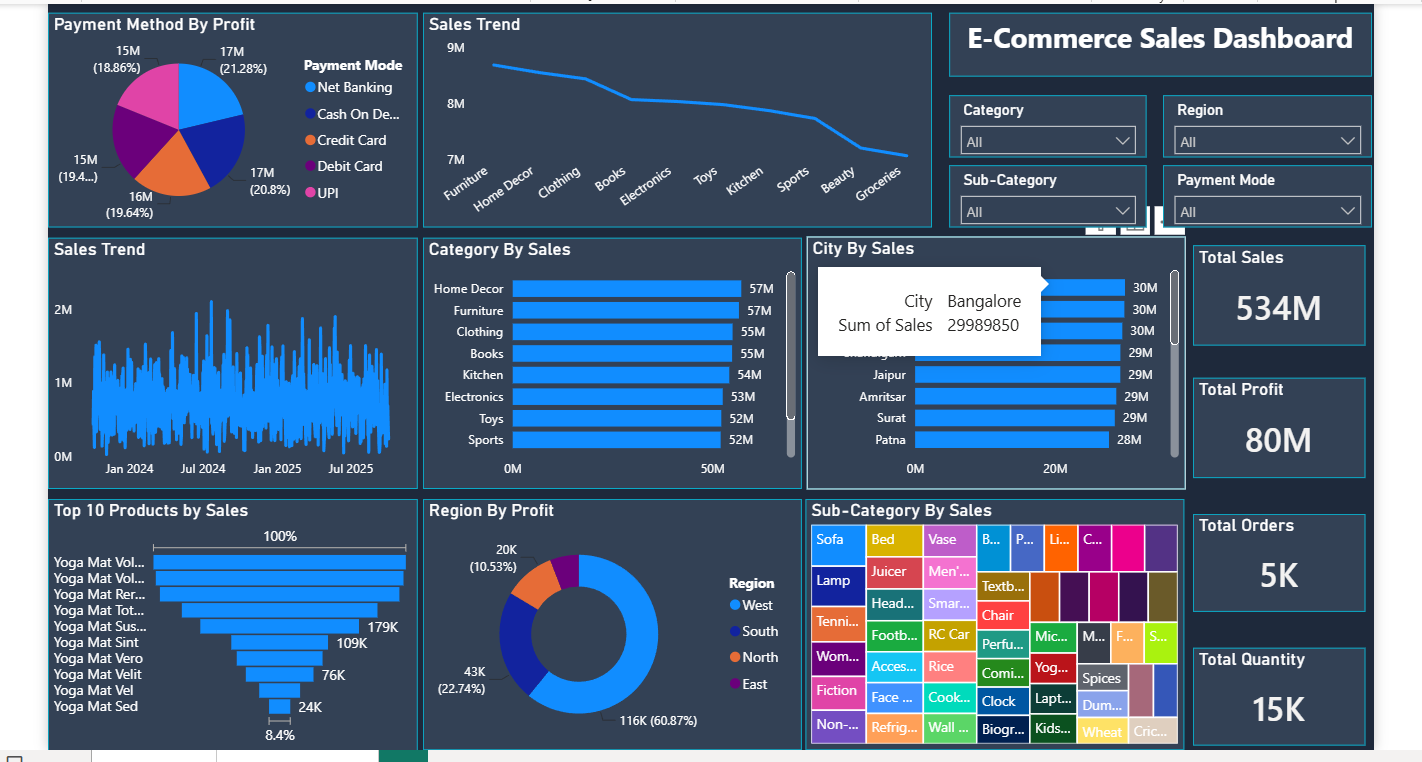

The dashboard page shown, as its layout file describes it:
{"tool":"powerbi","page":{"name":"Dashboard","canvas":[1280,720],"ordinal":0},"visuals":[{"type":"cardVisual","title":"Total Sales","fields":{"Data":["Ecommerce_Sales_Data_2024_20251(E-commerce_Sales).Total Sales"]},"box":[1105.1,232.8,166.5,96.5],"z":0},{"type":"cardVisual","title":"Total Profit","fields":{"Data":["Ecommerce_Sales_Data_2024_20251(E-commerce_Sales).Total Profit"]},"box":[1105.1,360.7,166.5,96.5],"z":1000},{"type":"cardVisual","title":"Total Orders","fields":{"Data":["Ecommerce_Sales_Data_2024_20251(E-commerce_Sales).Total Orders","Ecommerce_Sales_Data_2024_20251(E-commerce_Sales).Total Orders"]},"box":[1105.1,492.2,166.5,94.1],"z":2000},{"type":"cardVisual","title":"Total Quantity","fields":{"Data":["Ecommerce_Sales_Data_2024_20251(E-commerce_Sales).Total Quantity"]},"box":[1105.1,621.3,166.5,94.1],"z":3000},{"type":"lineChart","title":"Sales Trend","fields":{"Y":["Sum(Ecommerce_Sales_Data_2024_20251(E-commerce_Sales).Sales)"],"Category":["Ecommerce_Sales_Data_2024_20251(E-commerce_Sales).Order Date"]},"box":[0,225.6,357.1,242.5],"z":4000},{"type":"clusteredBarChart","title":"Category By Sales","fields":{"Category":["Ecommerce_Sales_Data_2024_20251(E-commerce_Sales).Category"],"Y":["Sum(Ecommerce_Sales_Data_2024_20251(E-commerce_Sales).Sales)"]},"box":[361.9,225.6,365.6,242.5],"z":5000},{"type":"clusteredBarChart","title":"City By Sales","fields":{"Category":["Ecommerce_Sales_Data_2024_20251(E-commerce_Sales).City"],"Y":["Sum(Ecommerce_Sales_Data_2024_20251(E-commerce_Sales).Sales)"]},"box":[732.3,224.4,365.6,243.7],"z":6000},{"type":"funnel","title":"Top 10 Products by Sales","fields":{"Category":["Ecommerce_Sales_Data_2024_20251(E-commerce_Sales).Product Name"],"Y":["Sum(Ecommerce_Sales_Data_2024_20251(E-commerce_Sales).Sales)"]},"box":[0,477.5,356.8,242.9],"z":7000},{"type":"donutChart","title":"Region By Profit","fields":{"Category":["Ecommerce_Sales_Data_2024_20251(E-commerce_Sales).Region"],"Y":["Sum(Ecommerce_Sales_Data_2024_20251(E-commerce_Sales).Profit)"]},"box":[361.9,477.8,365.6,242.5],"z":8000},{"type":"treemap","title":"Sub-Category By Sales","fields":{"Group":["Ecommerce_Sales_Data_2024_20251(E-commerce_Sales).Sub-Category"],"Values":["Sum(Ecommerce_Sales_Data_2024_20251(E-commerce_Sales).Sales)"]},"box":[731.1,477.8,365.6,242.5],"z":9000},{"type":"slicer","fields":{"Values":["Ecommerce_Sales_Data_2024_20251(E-commerce_Sales).Region"]},"box":[1075.8,87.8,201.7,60.4],"z":10000},{"type":"slicer","fields":{"Values":["Ecommerce_Sales_Data_2024_20251(E-commerce_Sales).Sub-Category"]},"box":[870,155.1,190.7,60.4],"z":11000},{"type":"slicer","fields":{"Values":["Ecommerce_Sales_Data_2024_20251(E-commerce_Sales).Category"]},"box":[870,87.8,190.7,60.4],"z":12000},{"type":"slicer","fields":{"Values":["Ecommerce_Sales_Data_2024_20251(E-commerce_Sales).Payment Mode"]},"box":[1075.8,155.1,201.7,60.4],"z":13000},{"type":"pieChart","title":"Payment Method By Profit","fields":{"Category":["Ecommerce_Sales_Data_2024_20251(E-commerce_Sales).Payment Mode"],"Y":["Sum(Ecommerce_Sales_Data_2024_20251(E-commerce_Sales).Profit)"]},"box":[0,8.4,357.1,207.5],"z":14000},{"type":"lineChart","title":"Sales Trend","fields":{"Category":["Ecommerce_Sales_Data_2024_20251(E-commerce_Sales).Category"],"Y":["Sum(Ecommerce_Sales_Data_2024_20251(E-commerce_Sales).Profit)"]},"box":[361.9,8.4,491,207.5],"z":15000},{"type":"textbox","box":[869.8,8.4,407.8,61.5],"z":16000}]}

Visuals, with their boxes on the page's 1280x720 design canvas (x1, y1, x2, y2). These are canvas units, not pixel positions in the 1422x762 screenshot, which may show the page scaled, cropped or inside an application window:
"Total Sales" cardVisual: Rect(1105, 233, 1272, 329)
"Total Profit" cardVisual: Rect(1105, 361, 1272, 457)
"Total Orders" cardVisual: Rect(1105, 492, 1272, 586)
"Total Quantity" cardVisual: Rect(1105, 621, 1272, 715)
"Sales Trend" lineChart: Rect(0, 226, 357, 468)
"Category By Sales" clusteredBarChart: Rect(362, 226, 728, 468)
"City By Sales" clusteredBarChart: Rect(732, 224, 1098, 468)
"Top 10 Products by Sales" funnel: Rect(0, 478, 357, 720)
"Region By Profit" donutChart: Rect(362, 478, 728, 720)
"Sub-Category By Sales" treemap: Rect(731, 478, 1097, 720)
slicer - Ecommerce_Sales_Data_2024_20251(E-commerce_Sales).Region: Rect(1076, 88, 1278, 148)
slicer - Ecommerce_Sales_Data_2024_20251(E-commerce_Sales).Sub-Category: Rect(870, 155, 1061, 216)
slicer - Ecommerce_Sales_Data_2024_20251(E-commerce_Sales).Category: Rect(870, 88, 1061, 148)
slicer - Ecommerce_Sales_Data_2024_20251(E-commerce_Sales).Payment Mode: Rect(1076, 155, 1278, 216)
"Payment Method By Profit" pieChart: Rect(0, 8, 357, 216)
"Sales Trend" lineChart: Rect(362, 8, 853, 216)
textbox: Rect(870, 8, 1278, 70)
